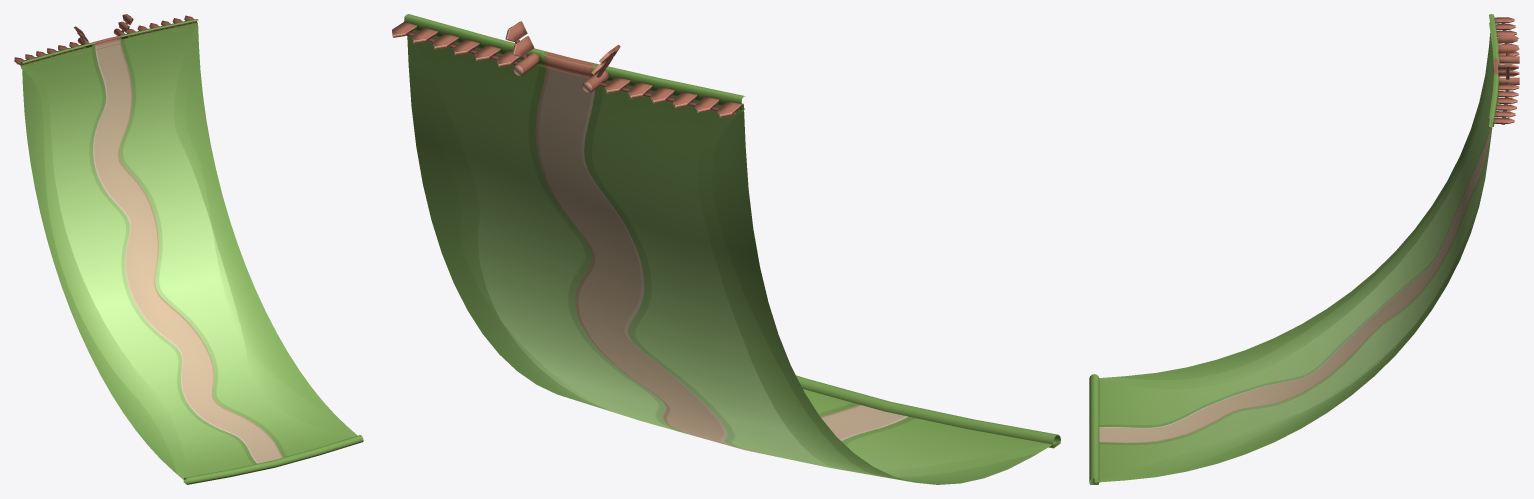
Rendered from level_back_segment.fbx.
3 renders of one model, left to right at view 1: azimuth 30°, elevation 25°; view 2: azimuth 150°, elevation 25°; view 3: azimuth 270°, elevation 25°, orthographic. The views are drawn at different scales.
Visible parts, largest first — view 1: segment03, divider01, divider02; view 2: segment03, divider01, divider02; view 3: segment03, divider01, divider02.
Part boxes in pixels (x1,y1,x2,y2): segment03: (22,23,357,481); divider01: (14,14,198,69); divider02: (183,435,363,484); segment03: (407,31,1056,484); divider01: (392,14,745,117); divider02: (796,375,1060,448); segment03: (1094,33,1494,482); divider01: (1489,14,1519,127); divider02: (1089,374,1099,484).
Bounding box in the file's own units: 5.01 × 8.64 × 8.67.
3 materials, 3 textured.
